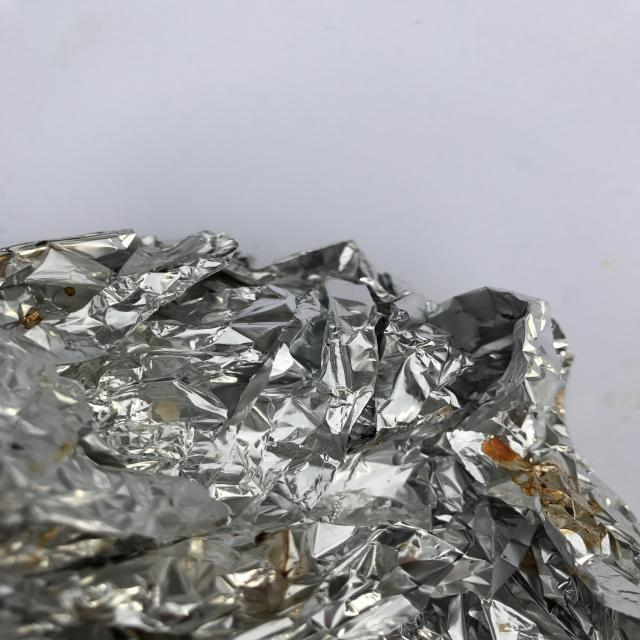metal: (2, 227, 640, 639)
